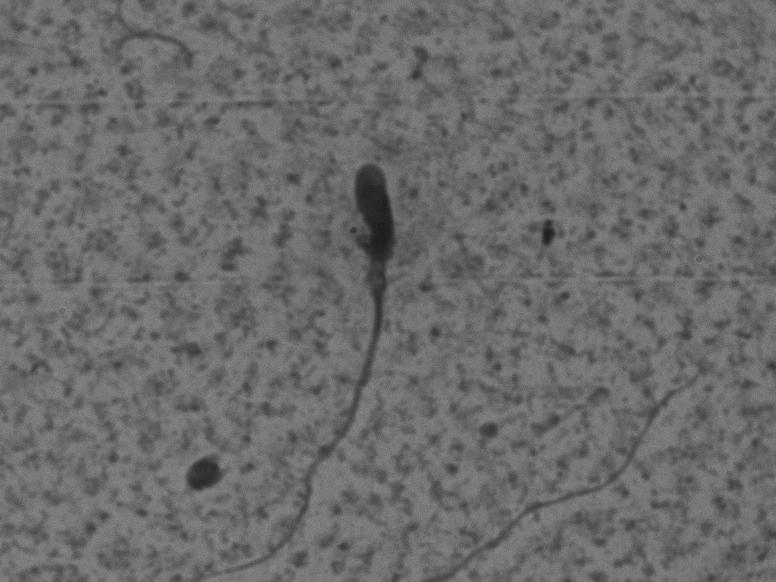Abnormal: (233, 125, 445, 574)
